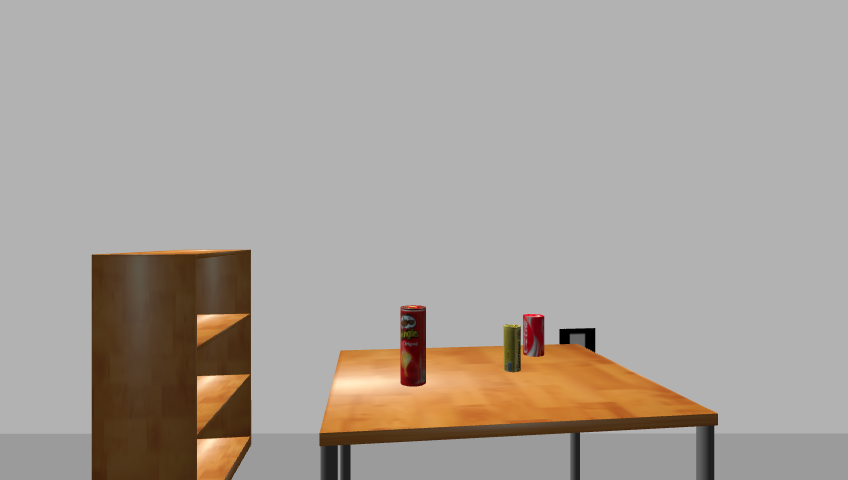aruco marker: (554, 326, 600, 357)
biscuits pack: (503, 325, 522, 373)
bookshelf: (86, 247, 260, 479)
coke can: (521, 313, 546, 359)
dinner table: (313, 343, 726, 480)
pringles can: (398, 304, 428, 389)
